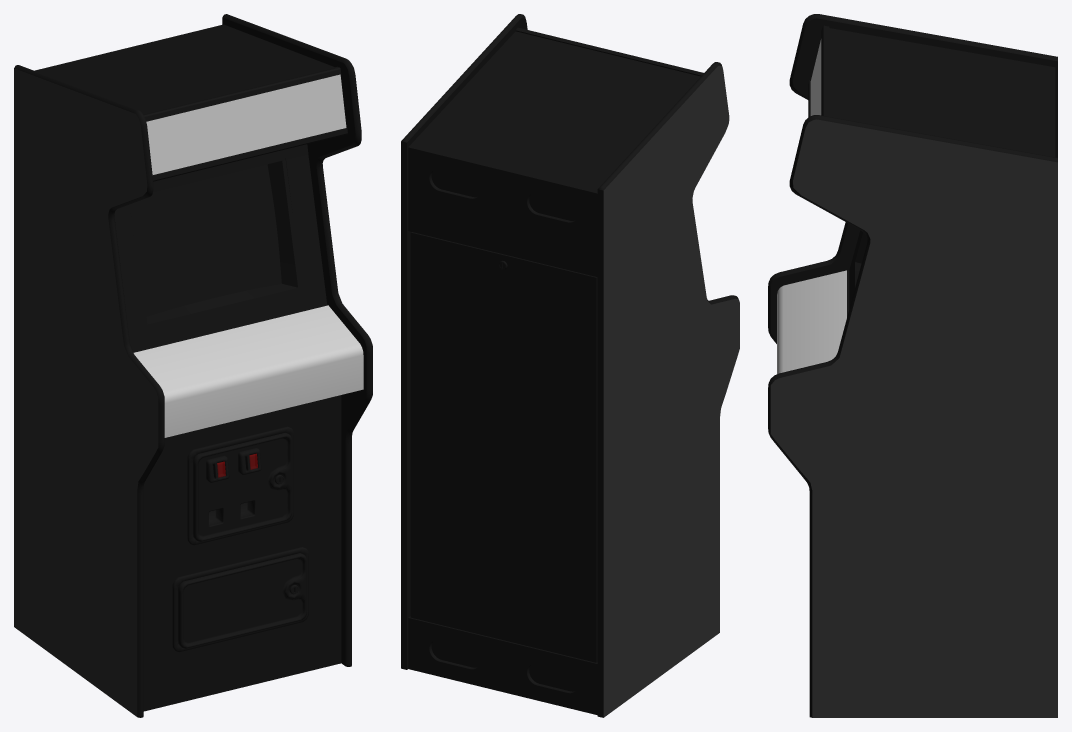
The model's file is cabinet-test.dae.
3 renders of one model, left to right at view 1: azimuth 30°, elevation 25°; view 2: azimuth 150°, elevation 25°; view 3: azimuth 270°, elevation 25°, orthographic. The views are drawn at different scales.
Parts seen in each view (by area): view 1: cabinet-combined, cabinet-sides, cabinet-front, cabinet-marquee; view 2: cabinet-combined, cabinet-sides; view 3: cabinet-sides, cabinet-combined, cabinet-front, cabinet-marquee.
Part boxes in pixels (x1,y1,x2,y2): cabinet-combined: [14, 14, 372, 717]; cabinet-sides: [14, 68, 323, 716]; cabinet-front: [133, 305, 363, 437]; cabinet-marquee: [146, 74, 346, 174]; cabinet-combined: [401, 14, 739, 717]; cabinet-sides: [603, 65, 739, 717]; cabinet-sides: [770, 119, 1057, 717]; cabinet-combined: [768, 14, 1057, 717]; cabinet-front: [777, 270, 846, 374]; cabinet-marquee: [810, 39, 821, 115].
Bounding box in the file's own units: 2.17 × 2.55 × 5.83.
Materials: 5 (4 with a texture image).
